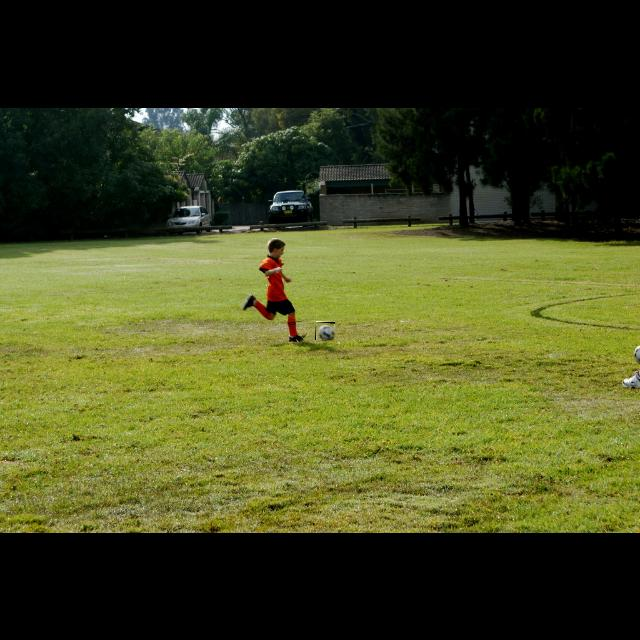Football: (315, 322, 335, 340)
